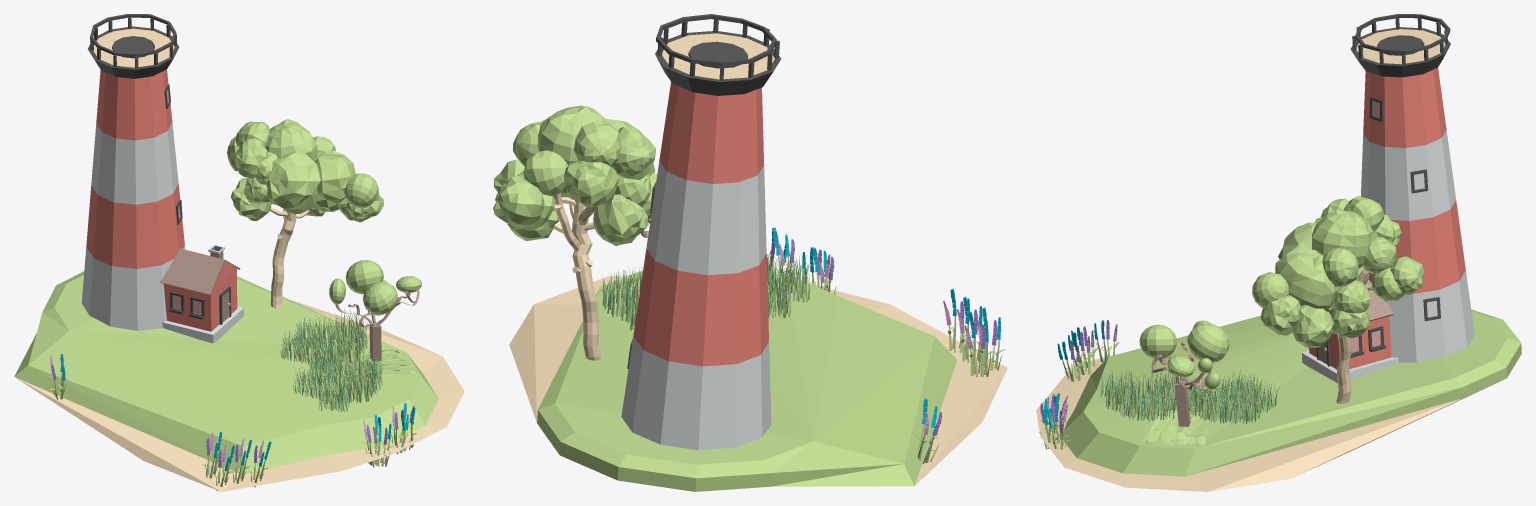
File: lighthouse.gltf
3 renders of one model, left to right at view 1: azimuth 30°, elevation 25°; view 2: azimuth 150°, elevation 25°; view 3: azimuth 270°, elevation 25°, orthographic. The views are drawn at different scales.
Visible parts, largest first — view 1: group1555526289, group801405357, group106448381, group1313799274, group1227501326, group2016278409, group264701557, group1869263998, group410155223, group1043441179, group1993859032, group1225119036; view 2: group1555526289, group801405357, group106448381, group264701557, group1227501326, group1993859032, group2016278409, group1225119036, group86042900, group1708772909, group734137632, group25207973 (+1 smaller); view 3: group1555526289, group801405357, group106448381, group1313799274, group2016278409, group1227501326, group264701557, group1869263998, group1043441179, group1993859032, group1225119036, group1424898873.
Part boxes in pixels (x1,y1,x2,y2): group1555526289: (14,271,464,491); group801405357: (81,69,185,330); group106448381: (227,119,383,308); group1313799274: (329,260,421,375); group1227501326: (292,351,383,412); group2016278409: (280,309,367,373); group264701557: (88,26,179,78); group1869263998: (163,262,237,331); group410155223: (159,248,224,295); group1043441179: (162,306,244,343); group1993859032: (90,14,176,56); group1225119036: (112,36,154,58); group1555526289: (509,271,1007,491); group801405357: (621,82,771,450); group106448381: (493,105,655,360); group264701557: (655,31,780,95); group1227501326: (766,249,812,318); group1993859032: (656,14,776,66); group2016278409: (602,266,642,330); group1225119036: (688,41,747,68); group86042900: (964,311,994,377); group1708772909: (914,398,941,464); group734137632: (957,296,982,362); group25207973: (976,307,1005,370); group1555526289: (1036,309,1521,491); group801405357: (1361,67,1474,362); group106448381: (1252,195,1424,403); group1313799274: (1139,320,1229,446); group2016278409: (1175,370,1278,424); group1227501326: (1100,369,1201,422); group264701557: (1350,27,1450,77); group1869263998: (1309,309,1391,369); group1043441179: (1301,351,1398,383); group1993859032: (1355,14,1450,53); group1225119036: (1377,35,1424,55); group1424898873: (1328,279,1393,321).
Bounding box in the file's own units: 0.3021 × 0.2789 × 0.3289.
